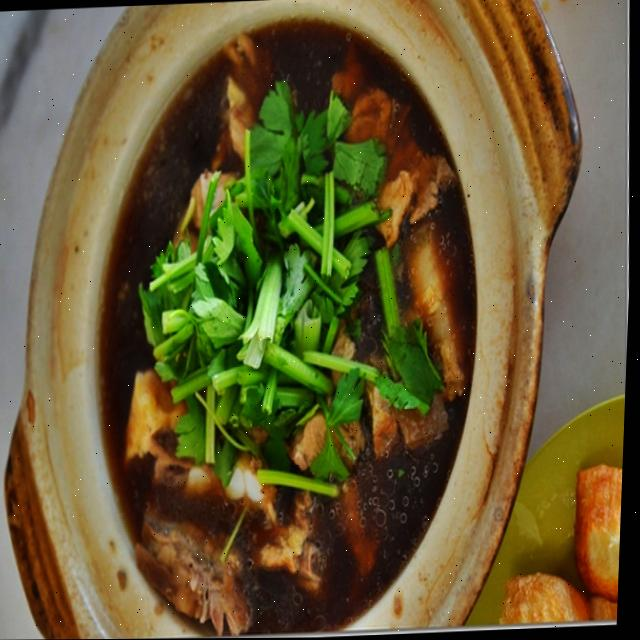汤锅炖物: (37, 18, 537, 640)
